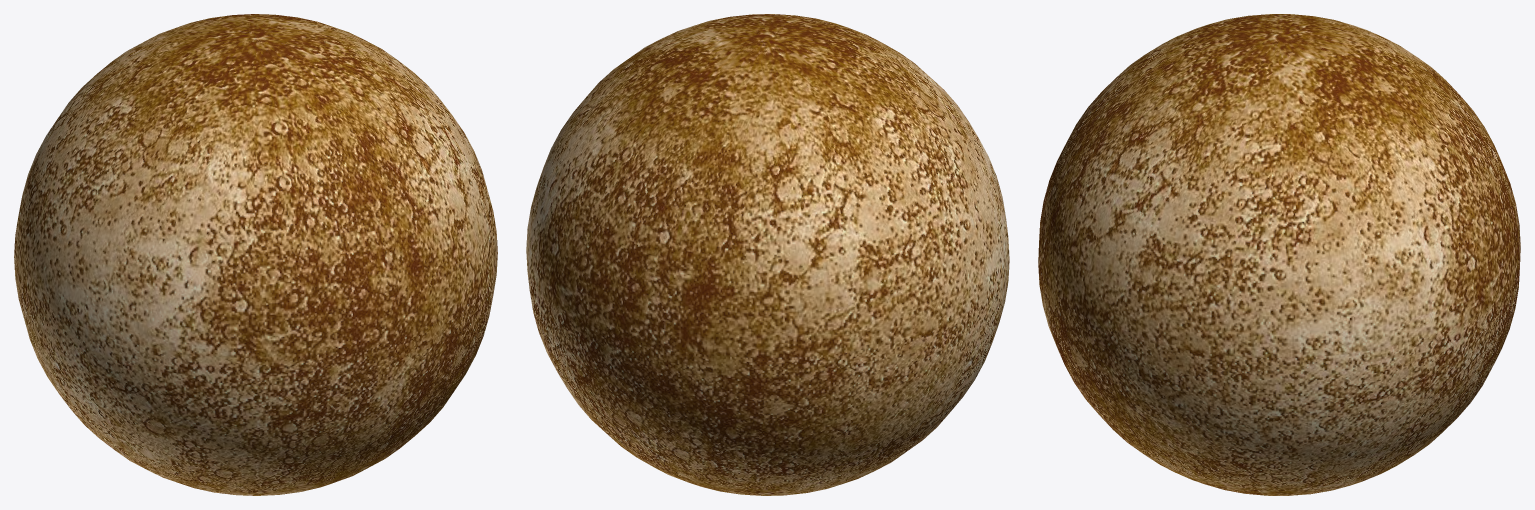
File: Mercury.fbx
3 views of the same model, side by side, from view 1: azimuth 30°, elevation 25°; view 2: azimuth 150°, elevation 25°; view 3: azimuth 270°, elevation 25° (orthographic).
Visible parts, largest first — view 1: Mercury.001; view 2: Mercury.001; view 3: Mercury.001.
Part boxes in pixels (x1=…): Mercury.001: x1=14, y1=14, x2=497, y2=495; Mercury.001: x1=526, y1=14, x2=1009, y2=495; Mercury.001: x1=1038, y1=14, x2=1520, y2=495.
Size of the model in its own units: 2.65 by 2.65 by 2.65.
